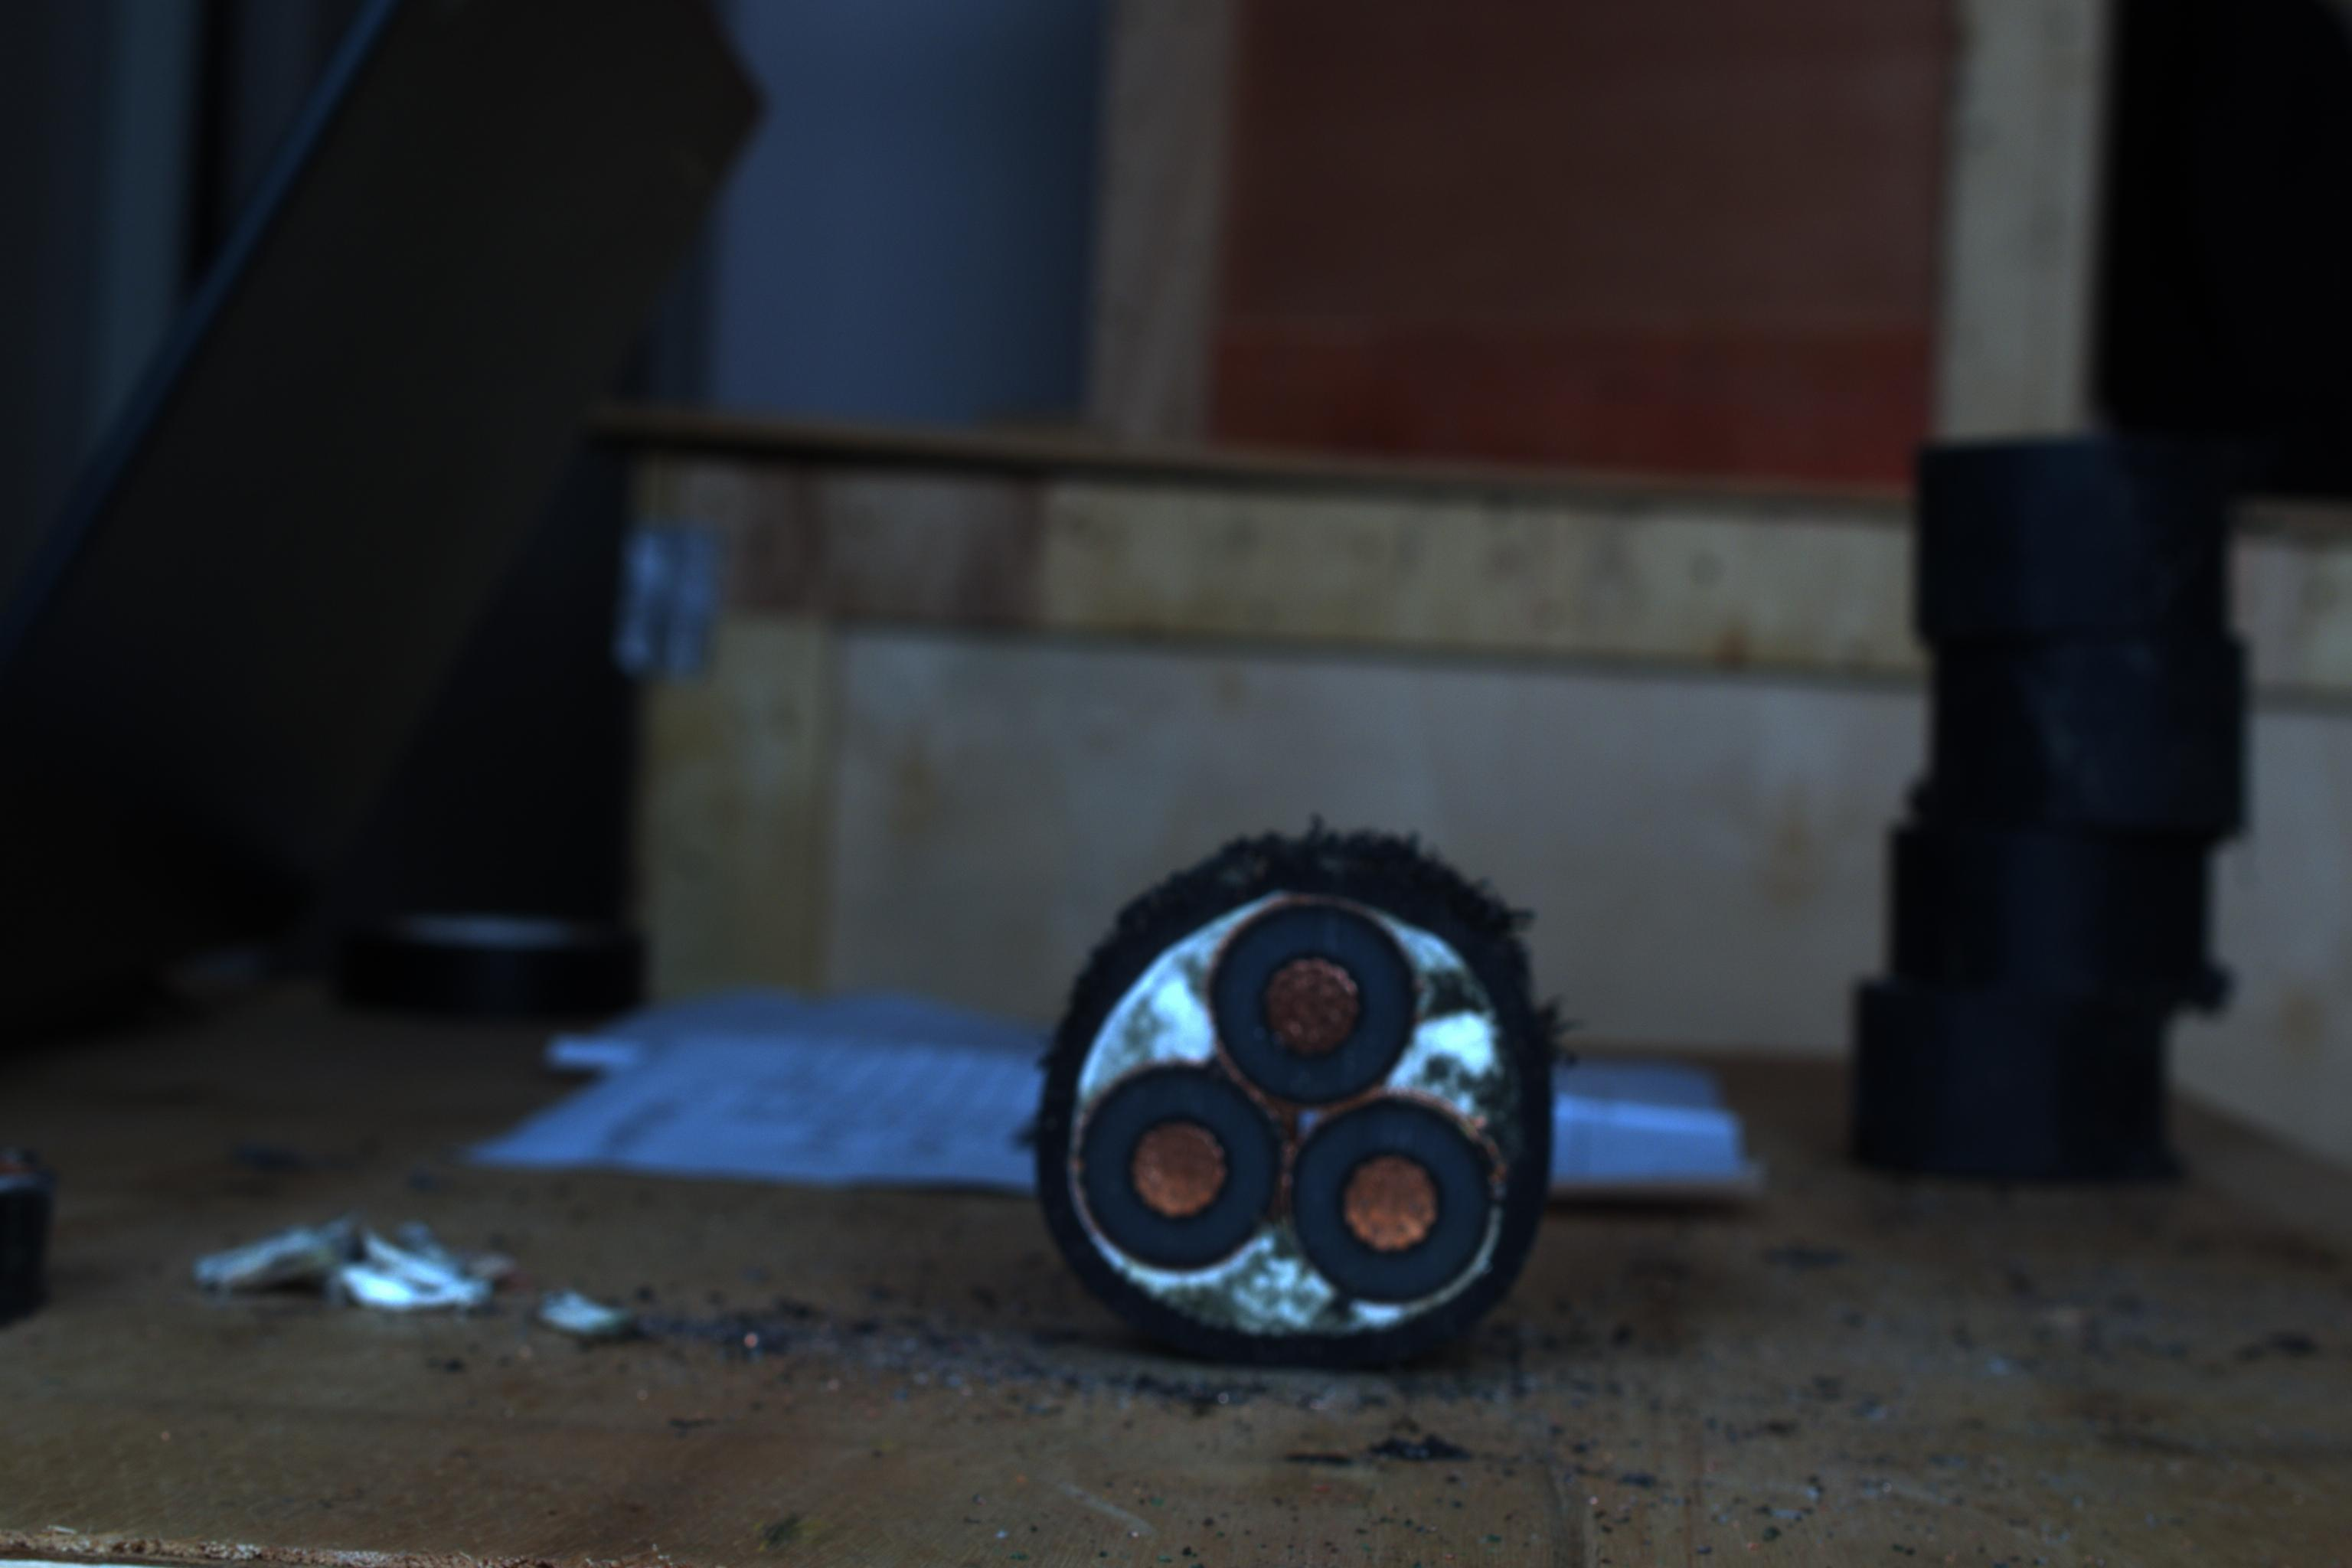YJV_8.7_10kV_3x70: (1036, 828, 1540, 1344)
